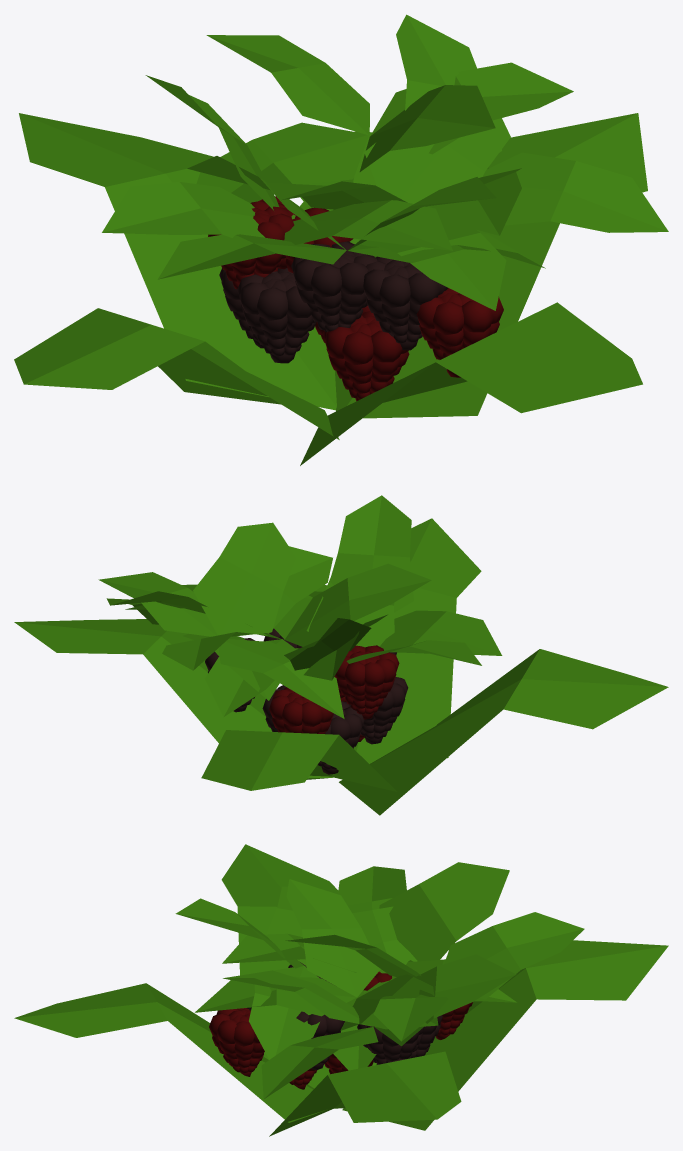
Rendered from blackberryBushDecoration.fbx.
3 views of the same model, one above another, from view 1: azimuth 30°, elevation 25°; view 2: azimuth 150°, elevation 25°; view 3: azimuth 270°, elevation 25° (orthographic). The views are drawn at different scales.
Visible parts, largest first — view 1: BlackBerry.012; view 2: BlackBerry.012; view 3: BlackBerry.012.
Part boxes in pixels (x1,y1,x2,y2): BlackBerry.012: (14,14,668,465); BlackBerry.012: (14,495,668,815); BlackBerry.012: (14,844,668,1136).
Size of the model in its own units: 5327 by 2049 by 5381.
